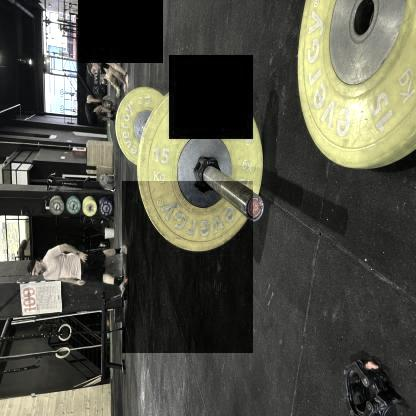barbell: (122, 183, 254, 354)
